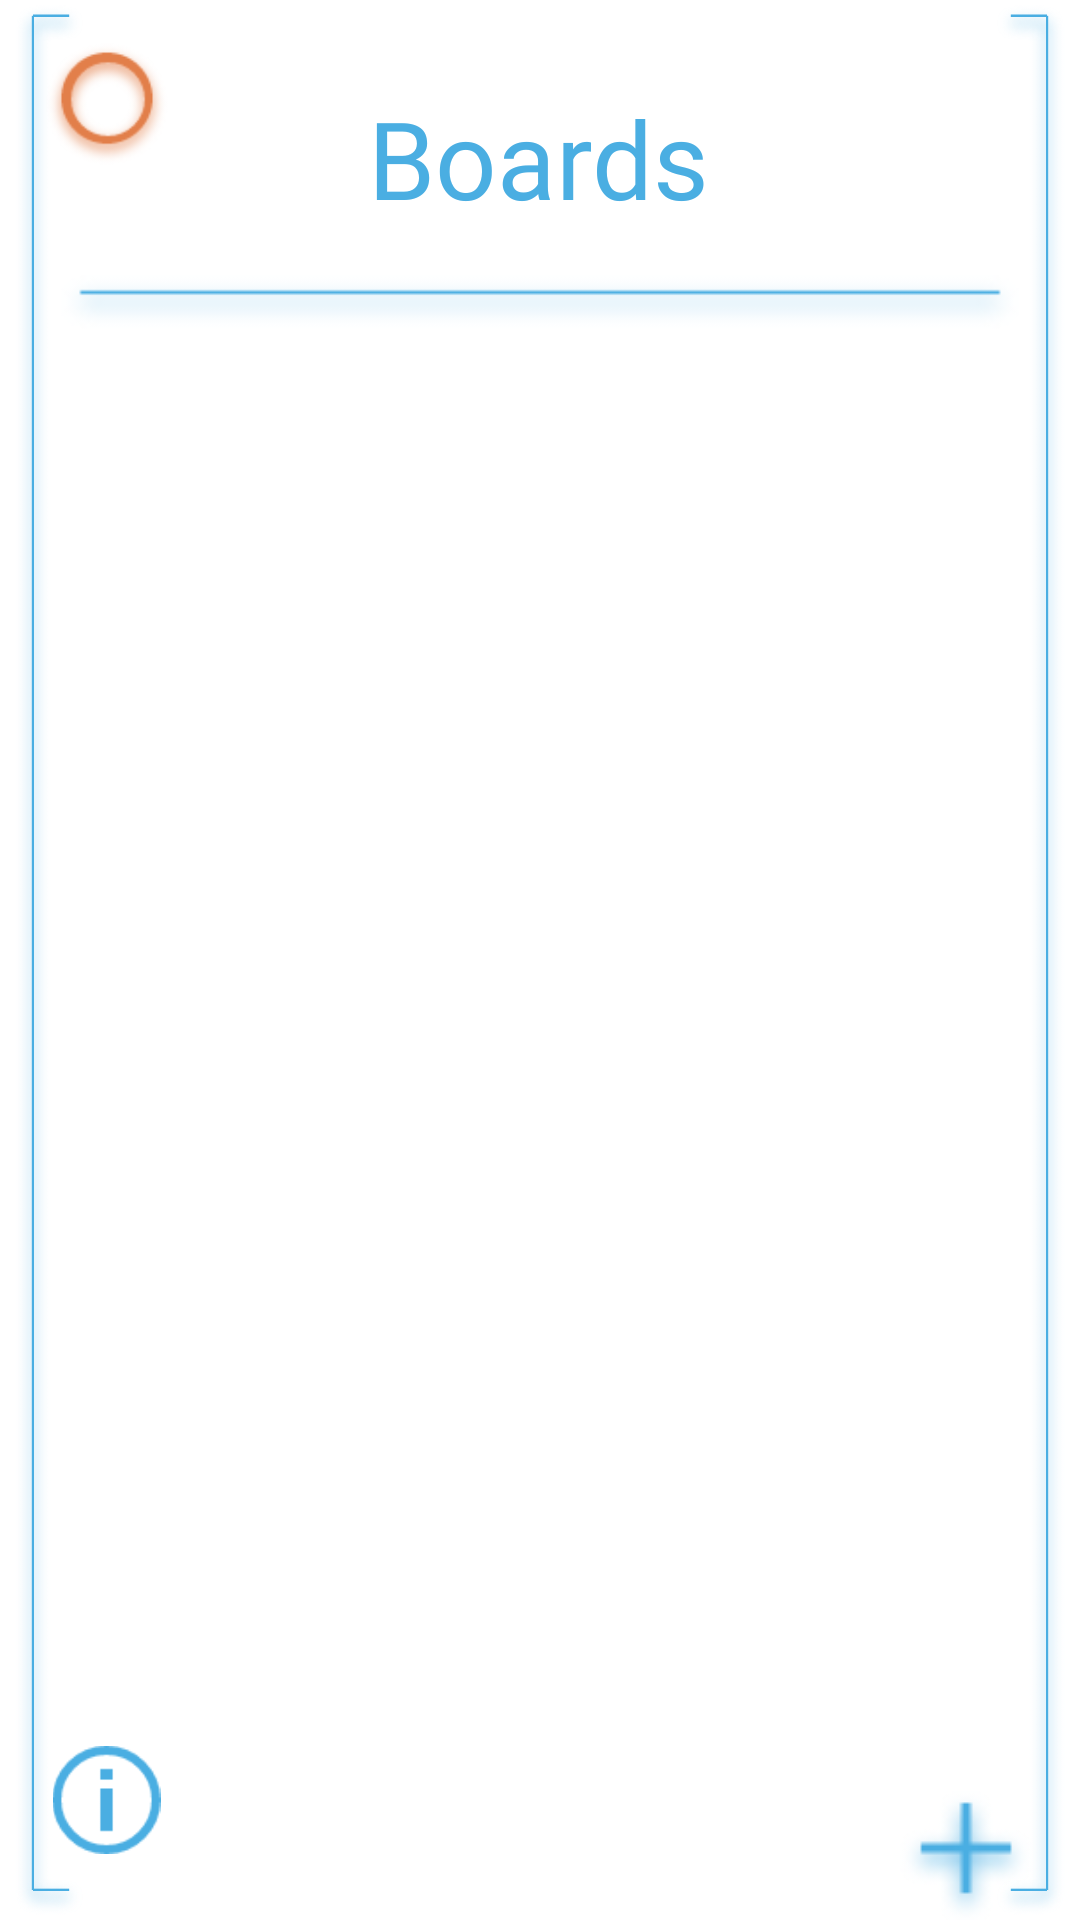

Screen size 1080x1920. Icon name, then its box in pixels as rect(x1, y1, x2, y2):
circle: rect(55, 52, 158, 155)
info: rect(53, 1746, 161, 1854)
plus: rect(919, 1802, 1013, 1904)
